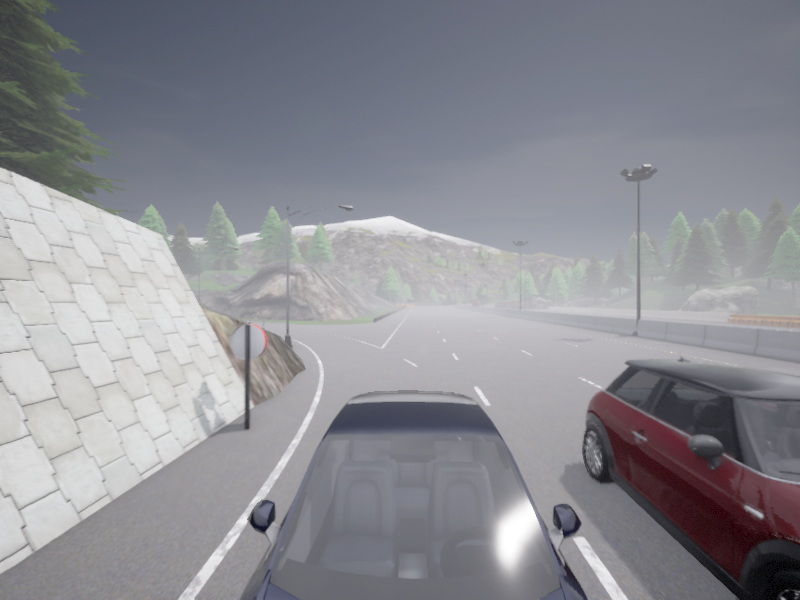vehicle: (239, 391, 587, 599), (583, 351, 799, 599), (473, 299, 480, 305), (480, 303, 482, 305)
